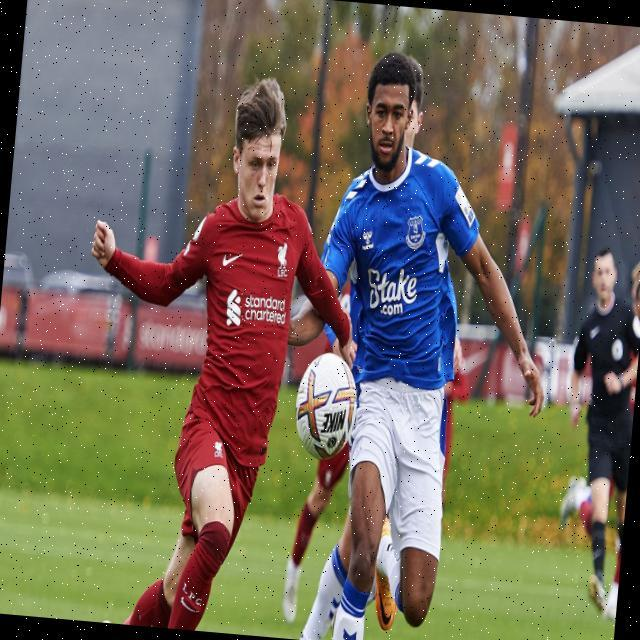Nike: (222, 251, 243, 268), (179, 596, 199, 613)
Standard Chartered: (224, 288, 287, 332)
